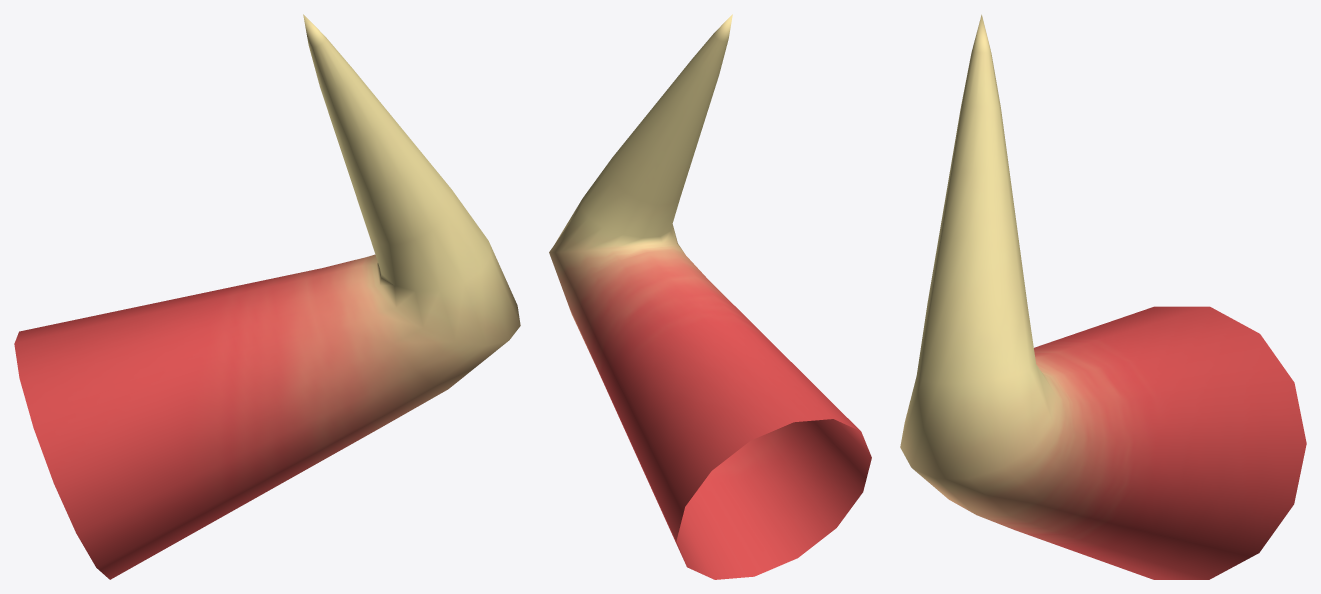
The model's file is Sung Cyber.fbx.
3 views of the same model, side by side, from view 1: azimuth 30°, elevation 25°; view 2: azimuth 150°, elevation 25°; view 3: azimuth 270°, elevation 25° (orthographic). The views are drawn at different scales.
Visible parts, largest first — view 1: HornC; view 2: HornC; view 3: HornC.
Boxes of the visible parts, x1,y1,x2,y2 form: HornC: [14, 14, 520, 579]; HornC: [549, 14, 871, 579]; HornC: [900, 14, 1306, 579].
Size of the model in its own units: 61.14 by 81.67 by 48.44.
Materials: 1 (1 with a texture image).
